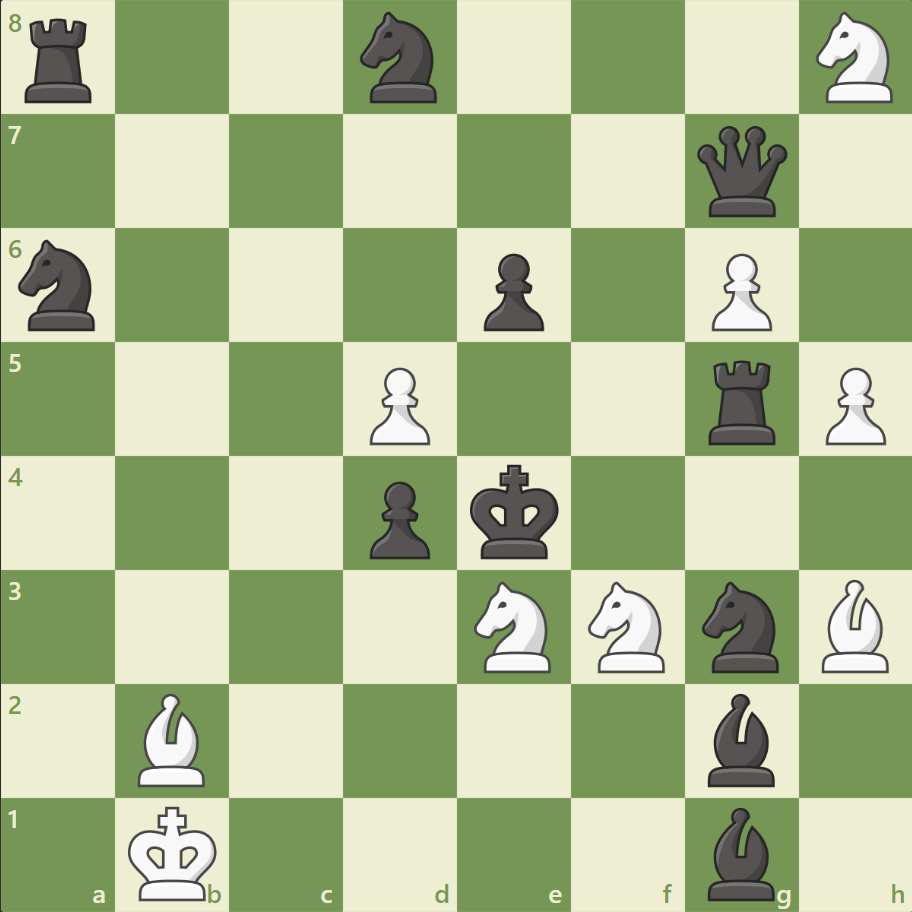B: (131, 687, 215, 790), (812, 574, 896, 676)
K: (124, 798, 224, 906)
N: (806, 7, 903, 110), (465, 575, 562, 677), (579, 575, 676, 677)
P: (701, 246, 776, 337), (361, 359, 435, 450), (815, 359, 889, 450)
b: (698, 687, 782, 790), (698, 801, 782, 904)
k: (465, 458, 565, 566)
n: (351, 7, 449, 110), (11, 234, 108, 337), (692, 575, 789, 677)
p: (474, 246, 549, 337), (361, 473, 435, 564)
q: (691, 122, 790, 222)
r: (19, 12, 102, 109), (700, 352, 783, 449)
